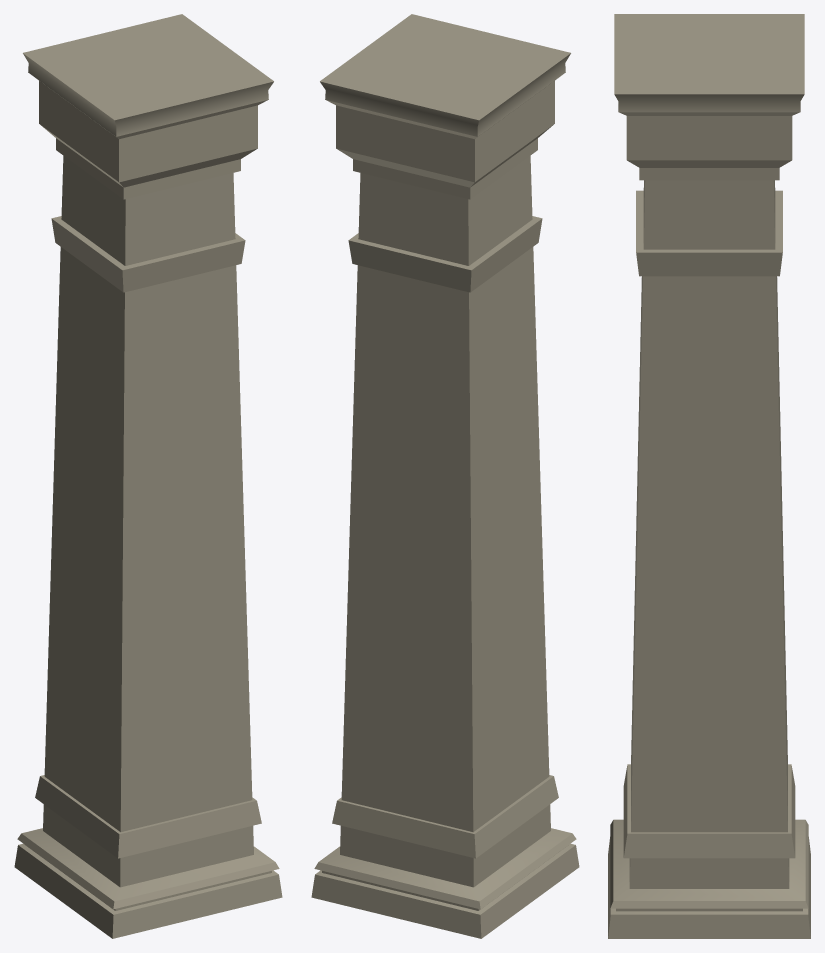
The model's file is Column_SquareBig.glb.
3 views of the same model, side by side, from view 1: azimuth 30°, elevation 25°; view 2: azimuth 150°, elevation 25°; view 3: azimuth 270°, elevation 25° (orthographic). The views are drawn at different scales.
Visible parts, largest first — view 1: Column_SquareBig; view 2: Column_SquareBig; view 3: Column_SquareBig.
Boxes of the visible parts, left/top/right/bottom form: Column_SquareBig: left=14, top=14, right=282, bottom=938; Column_SquareBig: left=311, top=14, right=579, bottom=938; Column_SquareBig: left=608, top=14, right=810, bottom=938.
Bounding box in the file's own units: 0.9073 × 4.16 × 0.9073.
